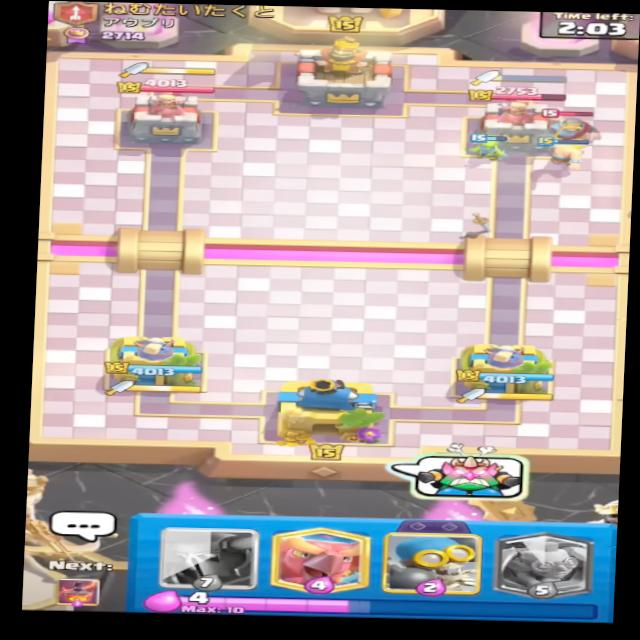knight: (525, 108, 602, 152)
